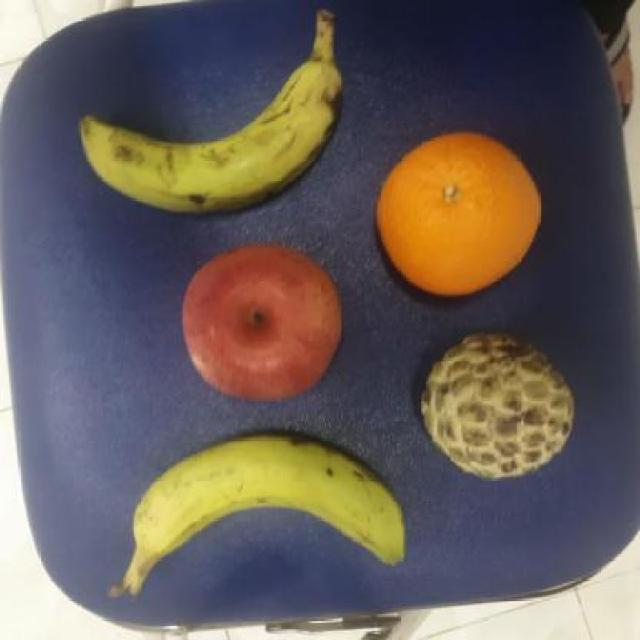apple: (181, 242, 342, 404)
banana: (78, 59, 353, 222), (125, 431, 408, 567)
oren: (372, 131, 543, 300)
sugar apple: (414, 326, 580, 482)
